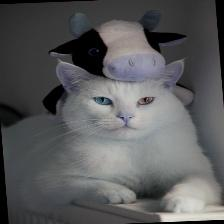kedo: (12, 60, 224, 213)
